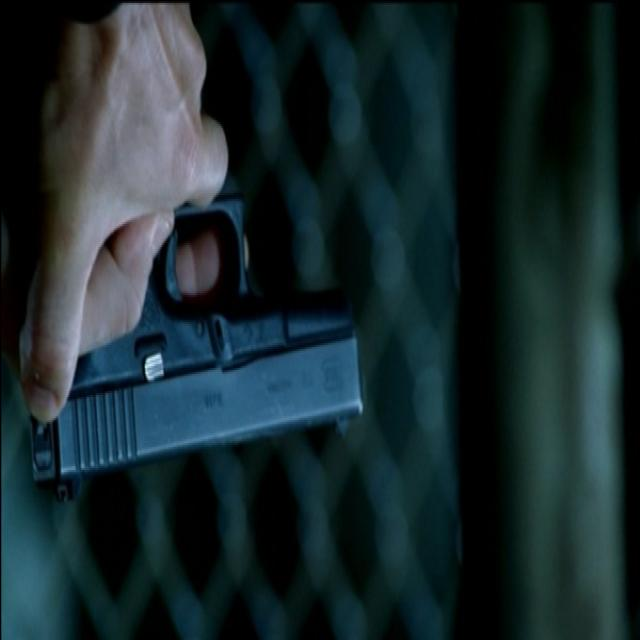weapons: (19, 109, 372, 514)
